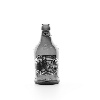beer: (33, 21, 60, 88)
